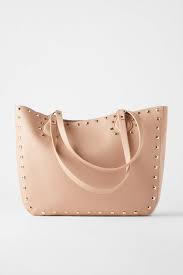bag: (10, 101, 163, 223)
